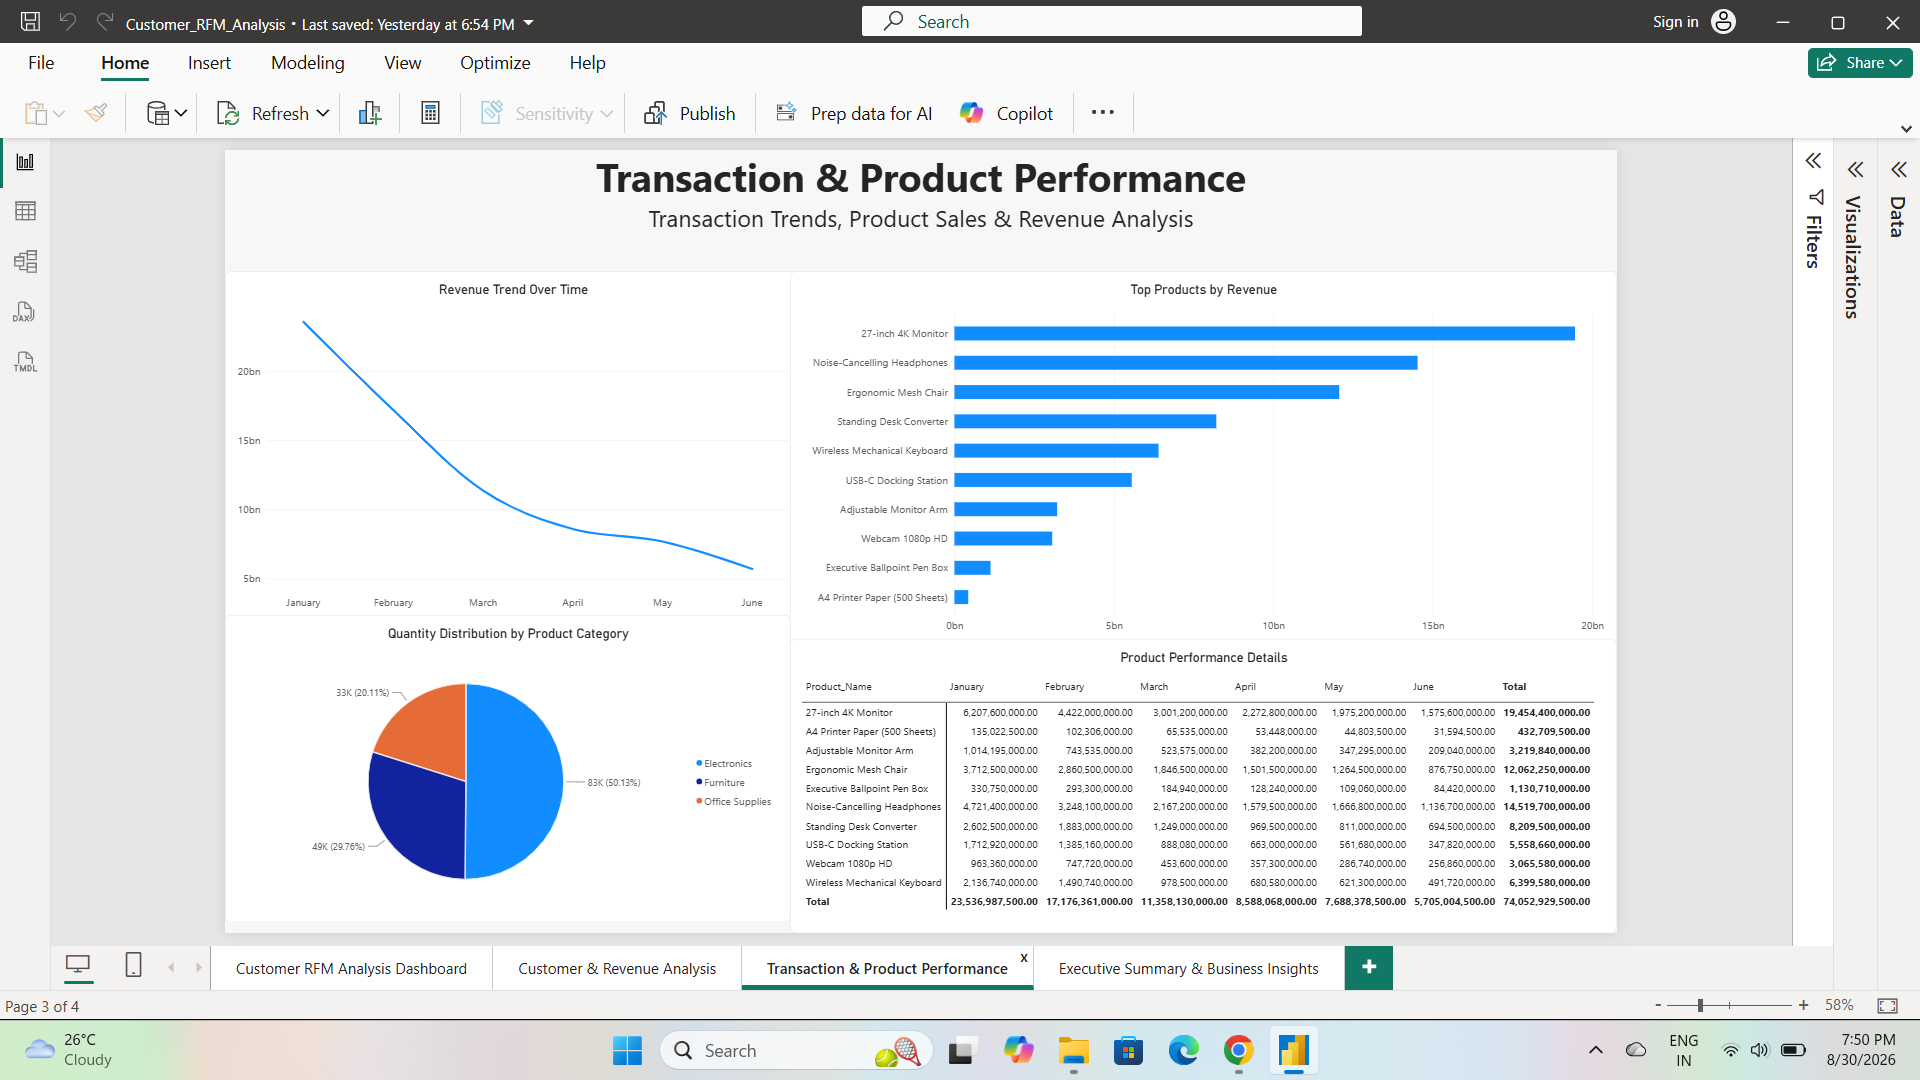

The dashboard page shown, as its layout file describes it:
{"tool":"powerbi","page":{"name":"Transaction & Product Performance","canvas":[1920,1080],"ordinal":2},"visuals":[{"type":"lineChart","title":"Revenue Trend Over Time","fields":{"Category":["customer_rfm_analysis sales_transactions.Transaction_Date.Variation.Date Hierarchy.Month"],"Y":["Sum(customer_rfm_analysis sales_transactions.Amount)"]},"box":[0,168,794,488],"z":0},{"type":"barChart","title":"Top Products by Revenue","fields":{"Category":["customer_rfm_analysis sales_transactions.Product_Name"],"Y":["Sum(customer_rfm_analysis sales_transactions.Amount)"]},"box":[780,168,1140,520],"z":1000},{"type":"pieChart","title":"Quantity Distribution by Product Category","fields":{"Category":["customer_rfm_analysis sales_transactions.Product_Category"],"Y":["Sum(customer_rfm_analysis sales_transactions.Quantity)"]},"box":[0,642,780,424],"z":2000},{"type":"pivotTable","title":"Product Performance Details","fields":{"Values":["Sum(customer_rfm_analysis sales_transactions.Amount)"],"Rows":["customer_rfm_analysis sales_transactions.Product_Name"],"Columns":["customer_rfm_analysis sales_transactions.Transaction_Date.Variation.Date Hierarchy.Month"]},"box":[780,674,1140,406],"z":3000},{"type":"textbox","box":[0,0,1920,168],"z":4000}]}

Visuals, with their boxes on the page's 1920x1080 design canvas (x1, y1, x2, y2). These are canvas units, not pixel positions in the 1920x1080 screenshot, which may show the page scaled, cropped or inside an application window:
"Revenue Trend Over Time" lineChart: pyautogui.locateOnScreen(0, 168, 794, 656)
"Top Products by Revenue" barChart: pyautogui.locateOnScreen(780, 168, 1920, 688)
"Quantity Distribution by Product Category" pieChart: pyautogui.locateOnScreen(0, 642, 780, 1066)
"Product Performance Details" pivotTable: pyautogui.locateOnScreen(780, 674, 1920, 1080)
textbox: pyautogui.locateOnScreen(0, 0, 1920, 168)
